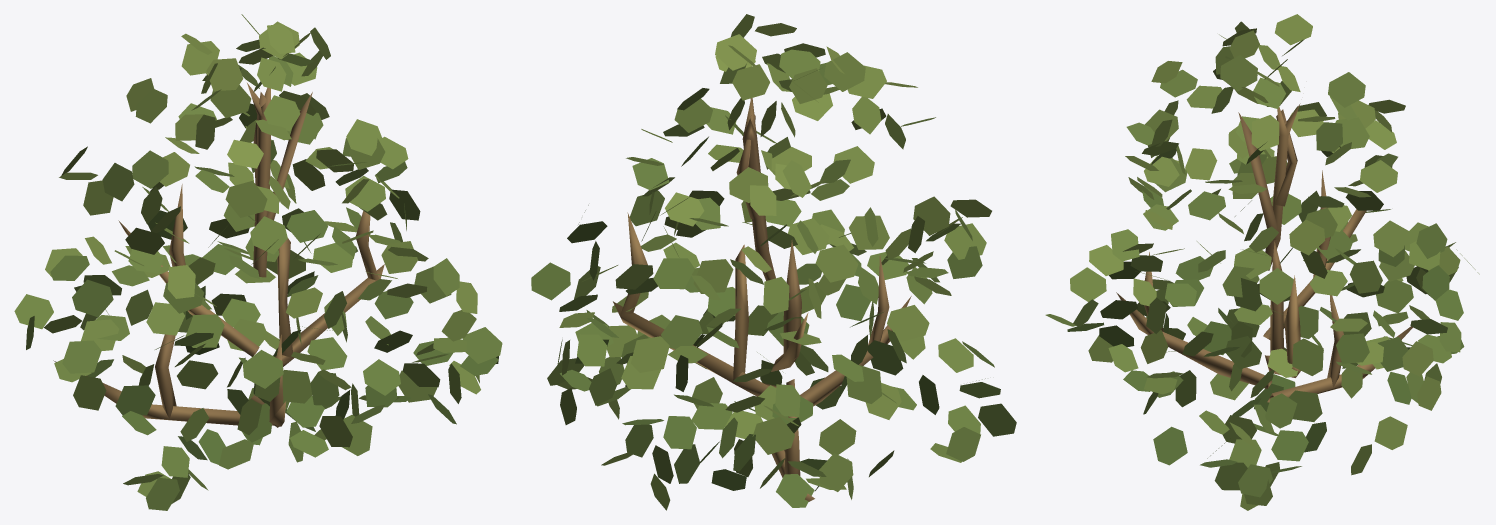
The model's file is meadow_shrub_lod1.glb.
3 views of the same model, side by side, from view 1: azimuth 30°, elevation 25°; view 2: azimuth 150°, elevation 25°; view 3: azimuth 270°, elevation 25° (orthographic). The views are drawn at different scales.
Visible parts, largest first — view 1: Leaves.010, Trunk.010; view 2: Leaves.010, Trunk.010; view 3: Leaves.010, Trunk.010.
Boxes of the visible parts, x1,y1,x2,y2 form: Leaves.010: (14, 14, 502, 510); Trunk.010: (53, 83, 384, 427); Leaves.010: (531, 14, 1016, 510); Trunk.010: (613, 98, 911, 501); Leaves.010: (1045, 14, 1479, 510); Trunk.010: (1116, 103, 1420, 402).
Size of the model in its own units: 1.23 by 1.22 by 1.16.
